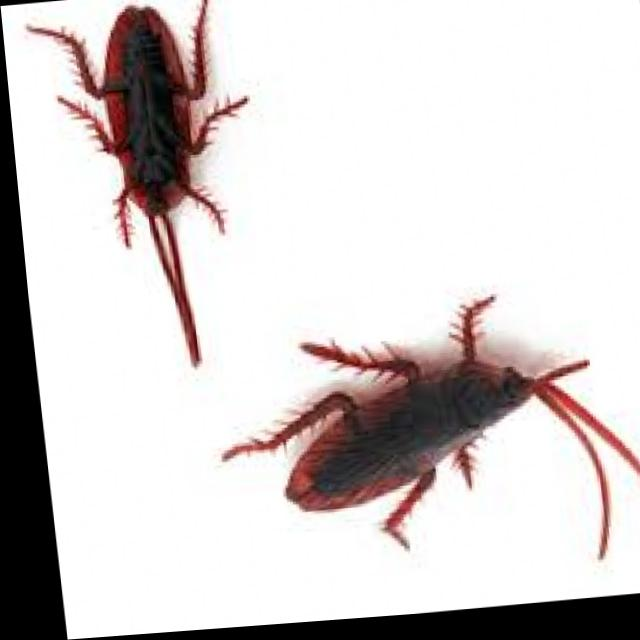Cockroach: (192, 256, 640, 600), (35, 0, 276, 341)
